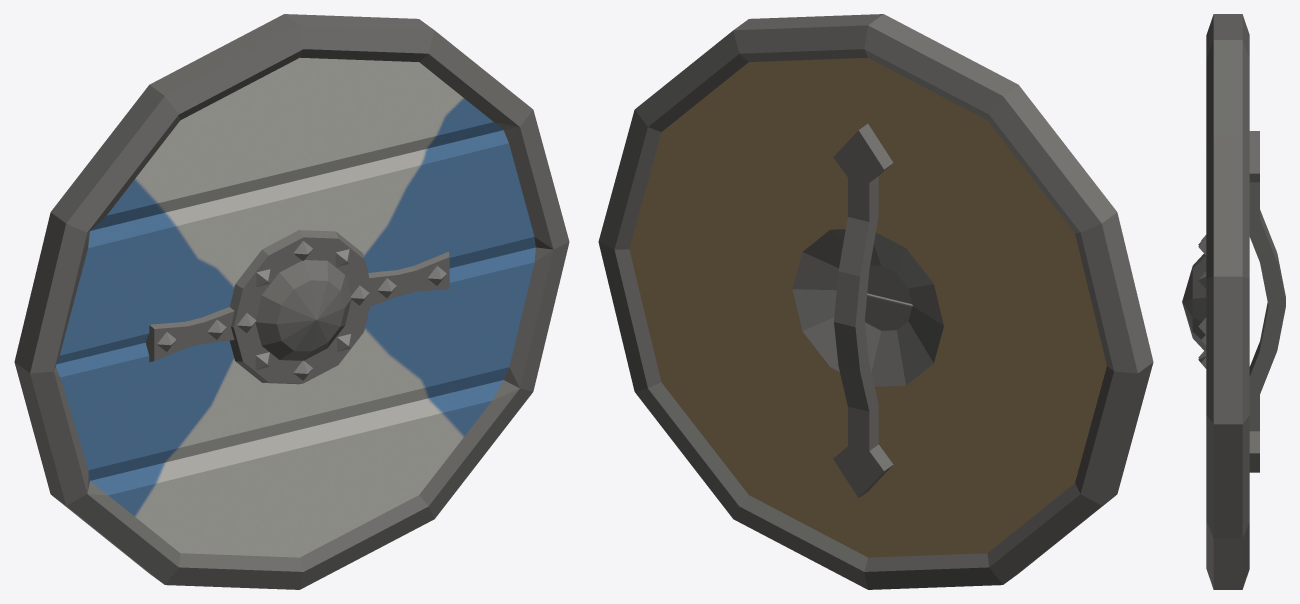
Rendered from SM_pwe_slavic_shield_03b.fbx.
3 views of the same model, side by side, from view 1: azimuth 30°, elevation 25°; view 2: azimuth 150°, elevation 25°; view 3: azimuth 270°, elevation 25° (orthographic). The views are drawn at different scales.
Parts seen in each view (by area): view 1: SM_pwe_slavic_shield_03b; view 2: SM_pwe_slavic_shield_03b; view 3: SM_pwe_slavic_shield_03b.
Boxes of the visible parts, bbox=[...] form: SM_pwe_slavic_shield_03b: bbox=[14, 14, 569, 589]; SM_pwe_slavic_shield_03b: bbox=[598, 14, 1153, 589]; SM_pwe_slavic_shield_03b: bbox=[1182, 14, 1285, 589].
Size of the model in its own units: 70.52 by 70.52 by 12.67.
